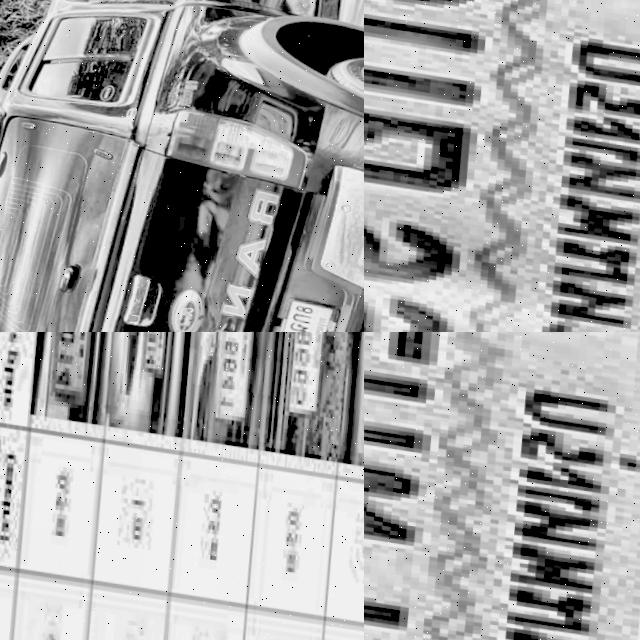license-plate: (364, 0, 640, 332), (364, 332, 640, 640), (43, 332, 101, 407), (206, 332, 256, 419), (281, 332, 331, 417), (263, 286, 340, 332), (134, 332, 172, 378)
